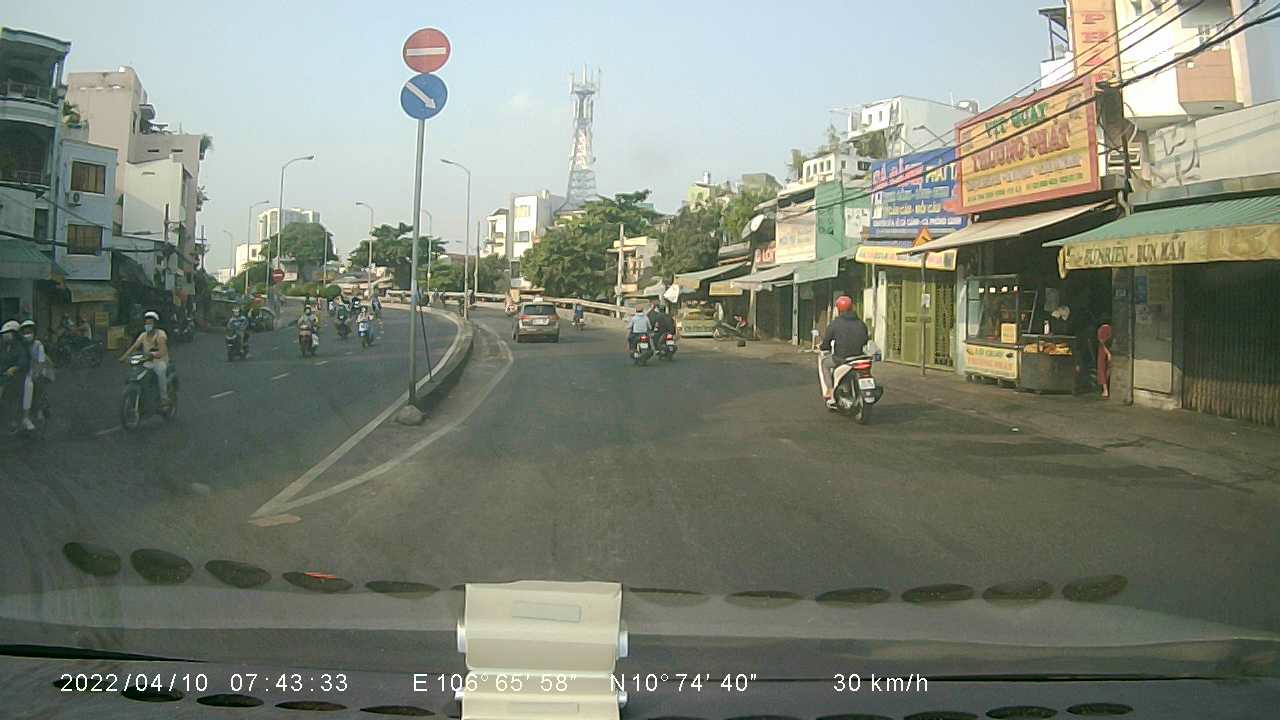Cam di nguoc chieu: (397, 22, 454, 72)
Huong di phai re phai: (397, 72, 448, 120)
